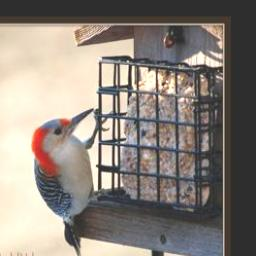Woodpecker: (32, 108, 112, 256)
